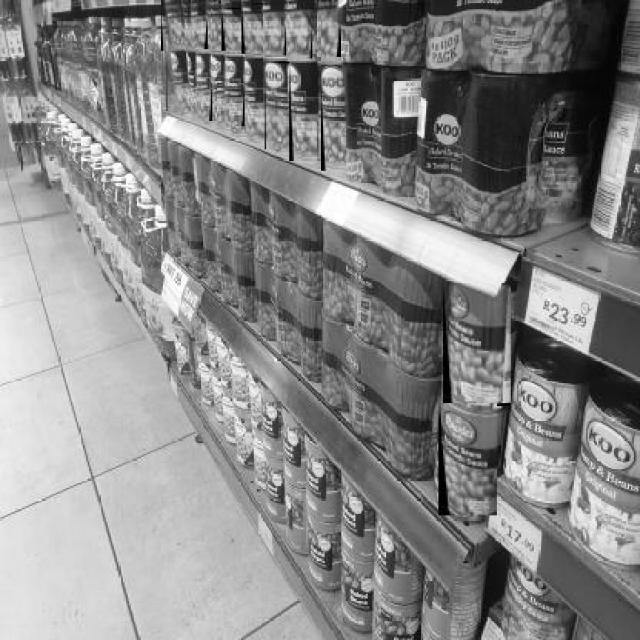Beans: (443, 283, 512, 408), (438, 402, 498, 518), (321, 66, 348, 172), (290, 63, 318, 162), (264, 60, 290, 152), (217, 61, 246, 128), (245, 58, 268, 142), (287, 2, 315, 60), (263, 1, 288, 57), (166, 52, 189, 112), (160, 0, 186, 52), (318, 3, 342, 59), (194, 56, 214, 121), (242, 3, 264, 55), (188, 1, 209, 51), (222, 8, 242, 52), (208, 5, 226, 49)
